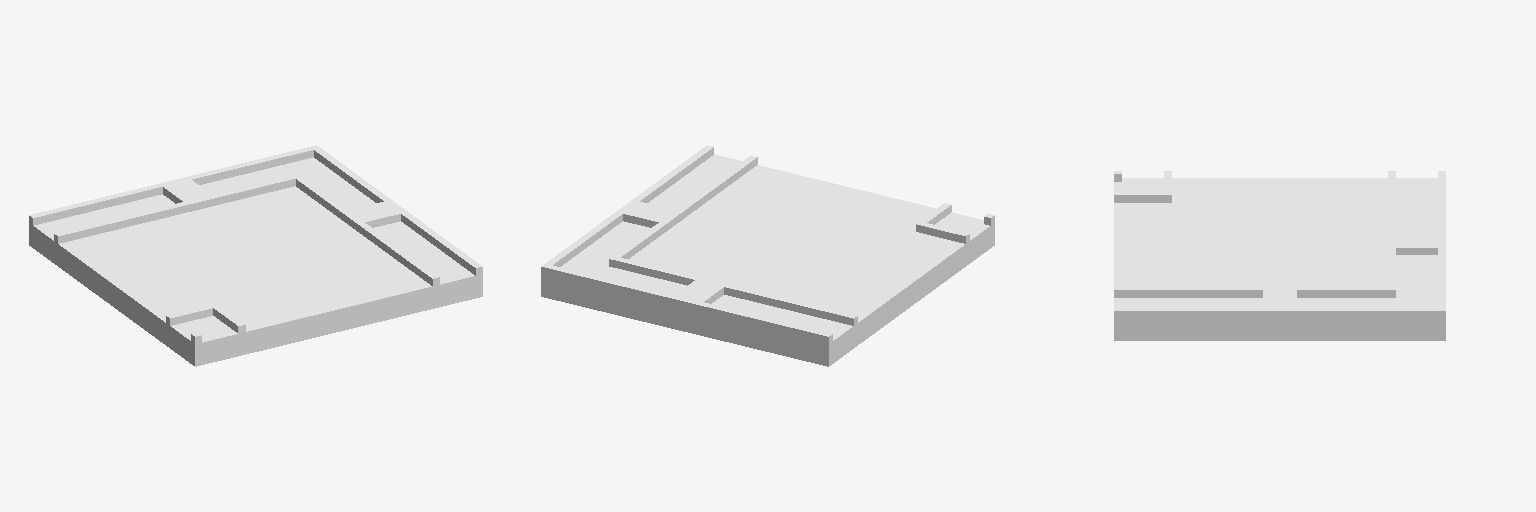
File: RoadL3.vox.obj
3 renders of one model, left to right at view 1: azimuth 30°, elevation 25°; view 2: azimuth 150°, elevation 25°; view 3: azimuth 270°, elevation 25°, orthographic.
Visible parts, largest first — view 1: object 1; view 2: object 1; view 3: object 1.
Part boxes in pixels (bbox=[...]): object 1: bbox=[29, 145, 482, 366]; object 1: bbox=[541, 145, 994, 366]; object 1: bbox=[1114, 171, 1445, 340].
Size of the model in its own units: 4 by 0.4 by 4.